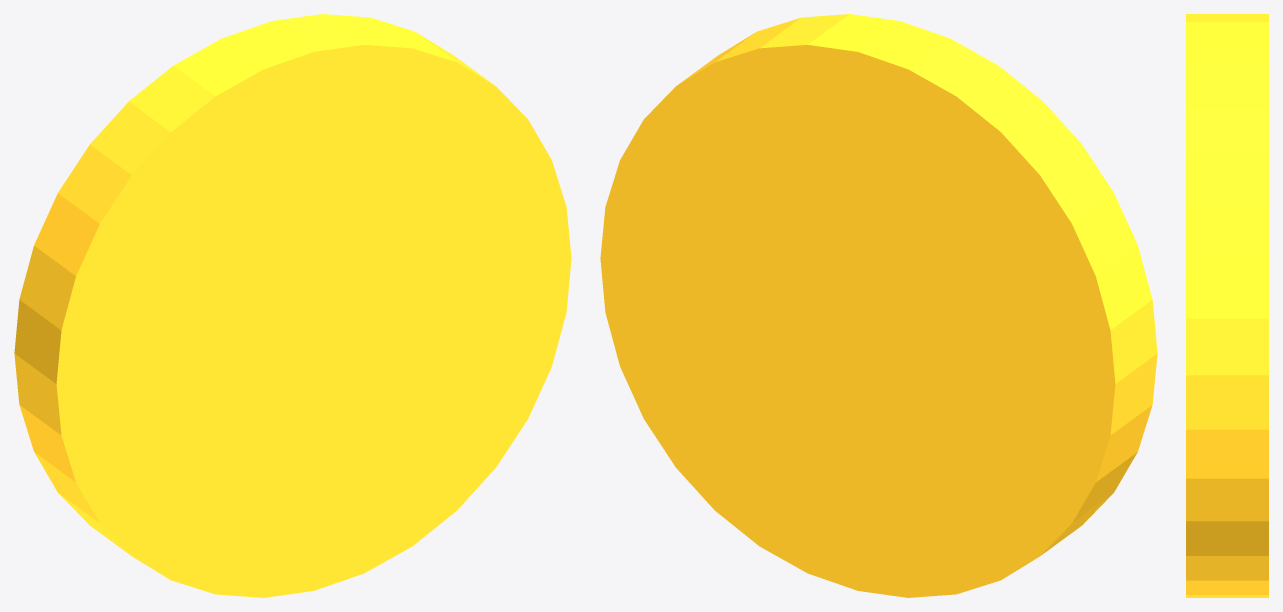
The model's file is coin.glb.
3 renders of one model, left to right at view 1: azimuth 30°, elevation 25°; view 2: azimuth 150°, elevation 25°; view 3: azimuth 270°, elevation 25°, orthographic.
Parts seen in each view (by area): view 1: coin; view 2: coin; view 3: coin.
Boxes of the visible parts, x1,y1,x2,y2 form: coin: (14, 14, 571, 597); coin: (600, 14, 1157, 597); coin: (1186, 14, 1268, 597).
Size of the model in its own units: 0.6 by 0.6 by 0.085.
